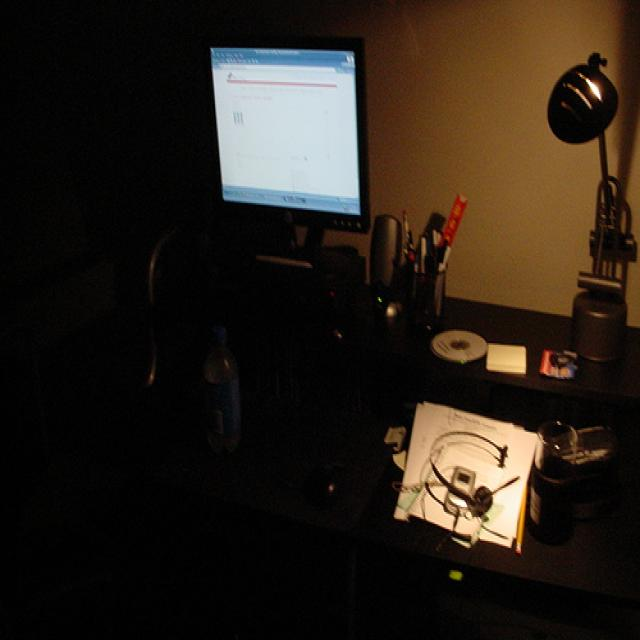Bottle: (201, 309, 246, 471)
Table: (33, 214, 640, 639)
